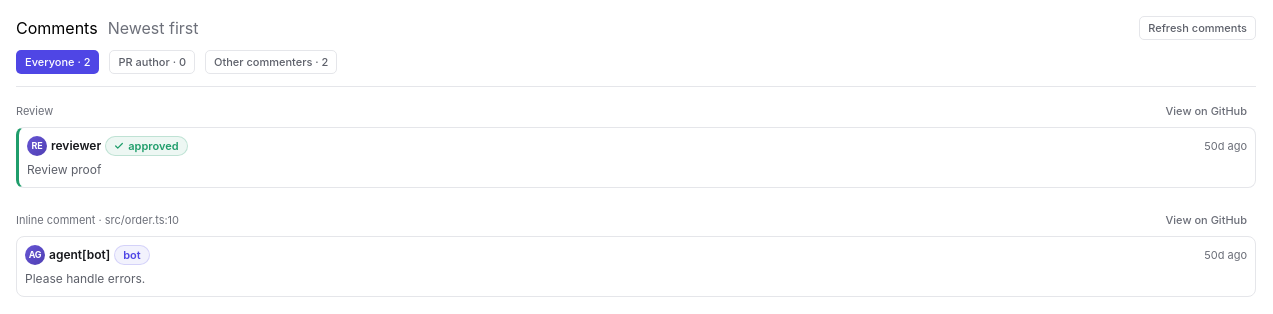
Scenario: Quick Review comments › distinguishes an empty author filter from a load failure
This screenshot has width=1273, height=314.
Expected: the text "Please handle errors." is shown, left=25, top=271, right=145, bottom=286
Click the button "PR author · 0" at point(152, 62), box left=110, top=50, right=195, bottom=74
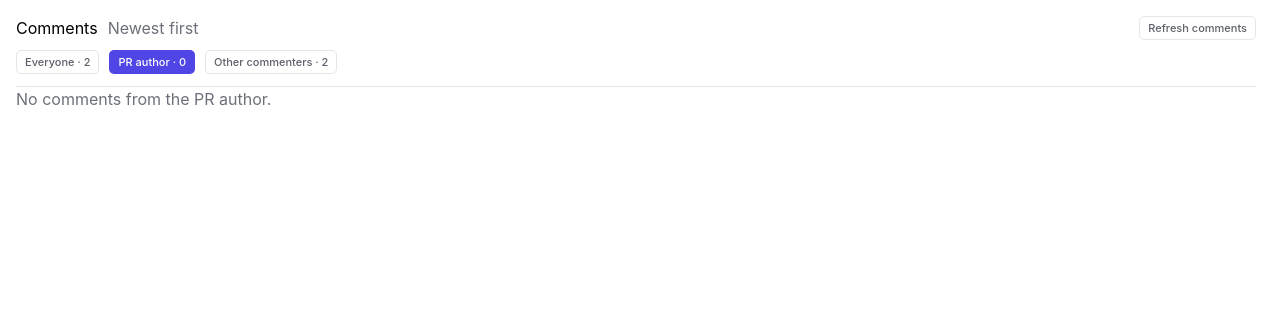
Now the text "No comments from the PR author." is shown, box left=16, top=89, right=271, bottom=109
